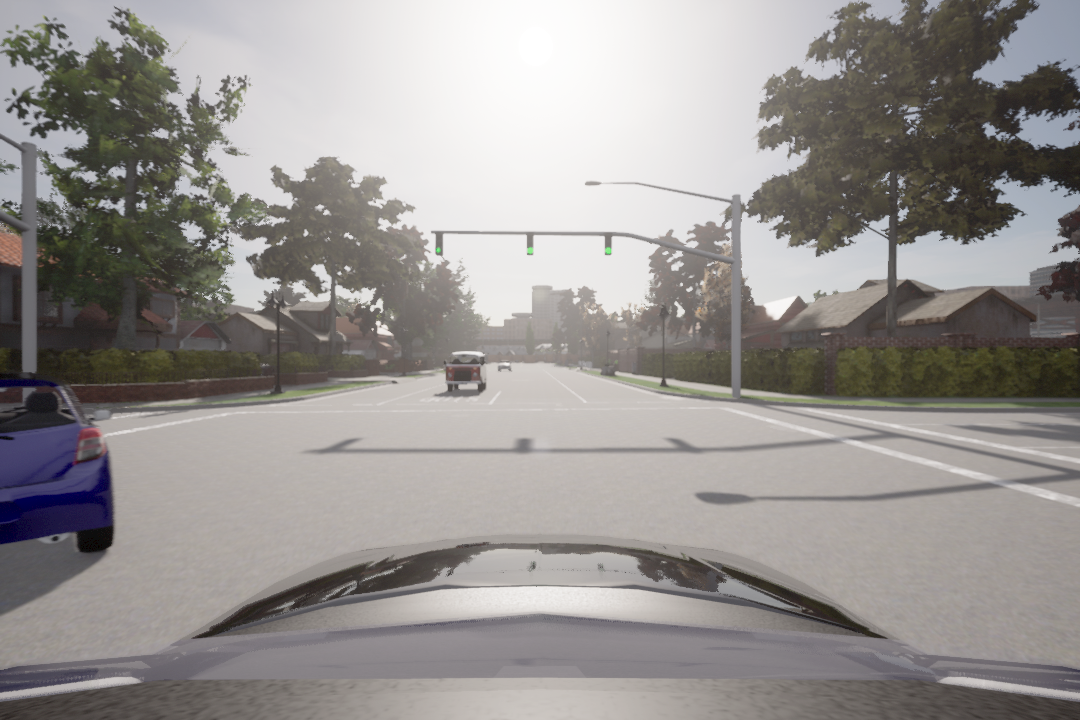TrafficLight: (524, 232, 536, 256), (433, 232, 444, 257), (605, 232, 614, 257)
